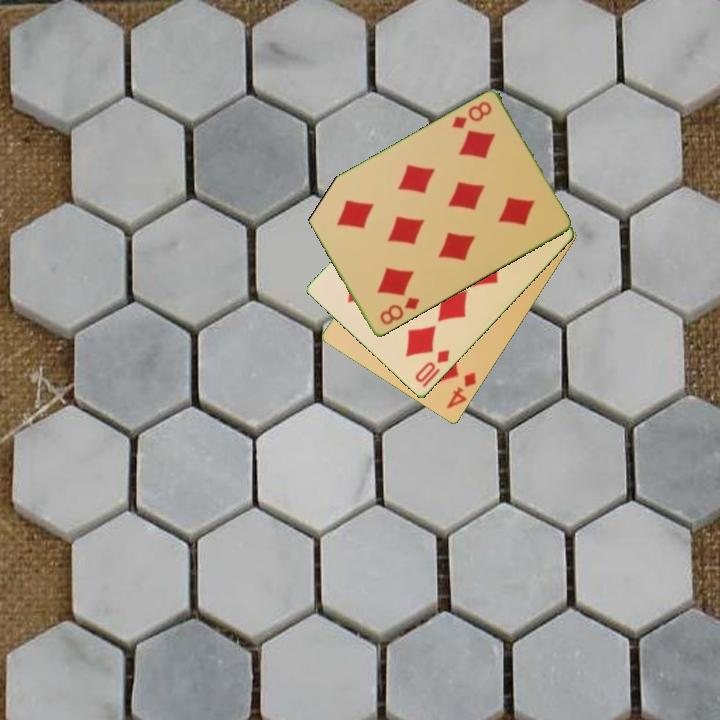10d: (411, 346, 453, 386)
4d: (443, 369, 479, 412)
8d: (376, 294, 423, 328), (448, 98, 495, 132)
